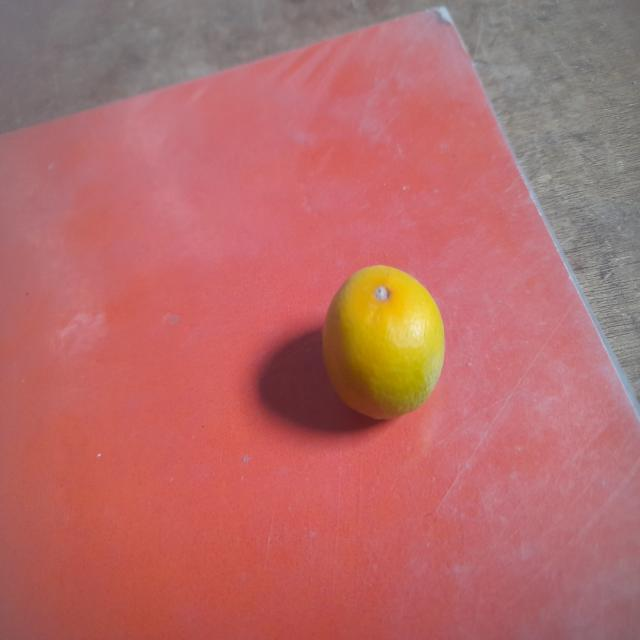greening: (327, 266, 446, 429)
